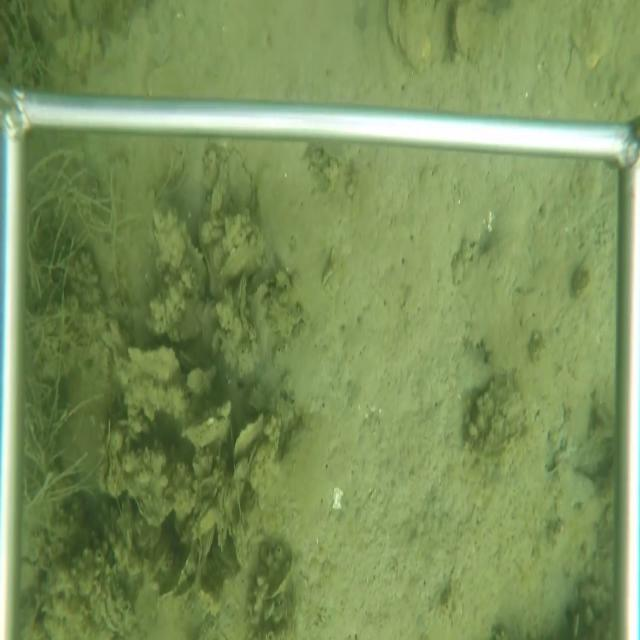Oyster-Closed: (227, 146, 259, 220), (245, 438, 283, 500), (450, 1, 483, 62), (233, 265, 258, 342)
Oyster-Indeterminate: (142, 206, 207, 341), (386, 2, 449, 77), (113, 340, 184, 387), (262, 549, 297, 605), (232, 410, 263, 467)
